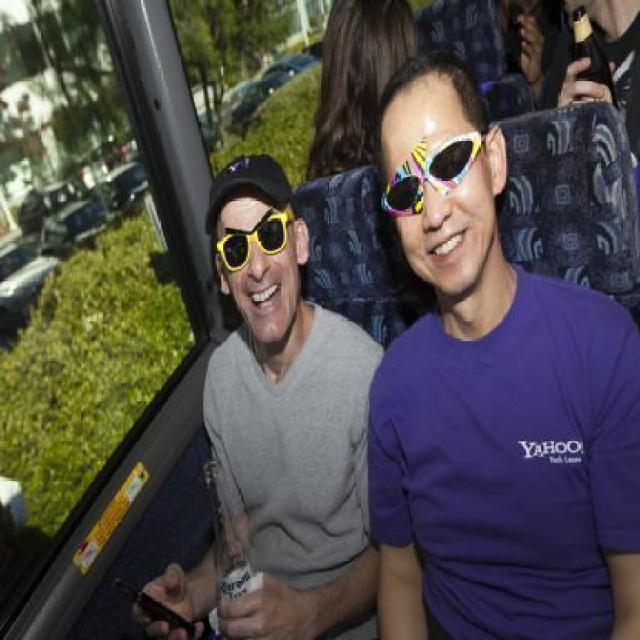face_nomask: (382, 147, 486, 265), (219, 225, 304, 322)
glasses: (375, 133, 483, 219), (206, 215, 294, 270)
hand_noglove: (120, 566, 208, 640), (203, 569, 283, 640)
head_nohelmet: (374, 58, 480, 120), (199, 158, 293, 219)
person: (347, 55, 640, 639), (171, 135, 383, 640)
